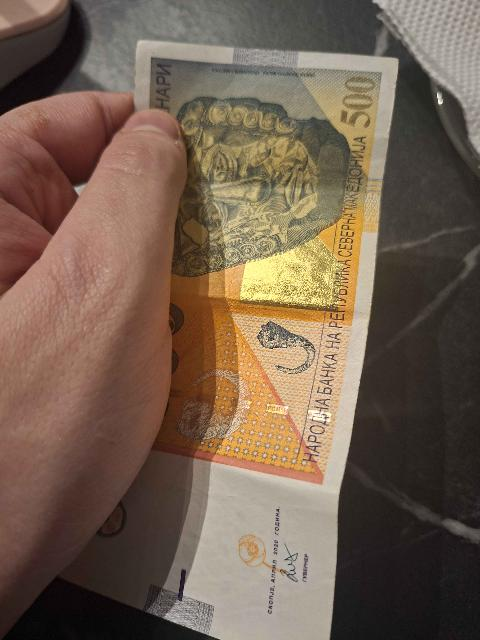500_note: (64, 42, 396, 639)
